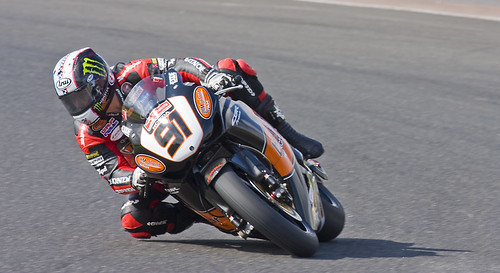helmet: (53, 46, 112, 124)
